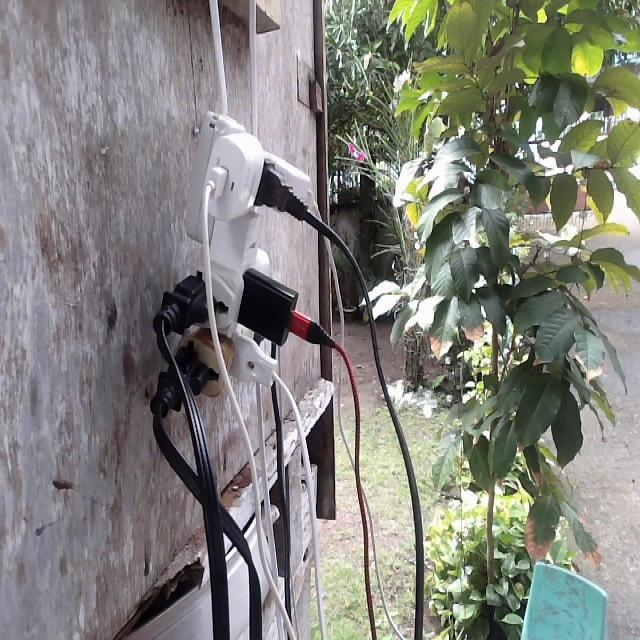-: (153, 107, 331, 404)
